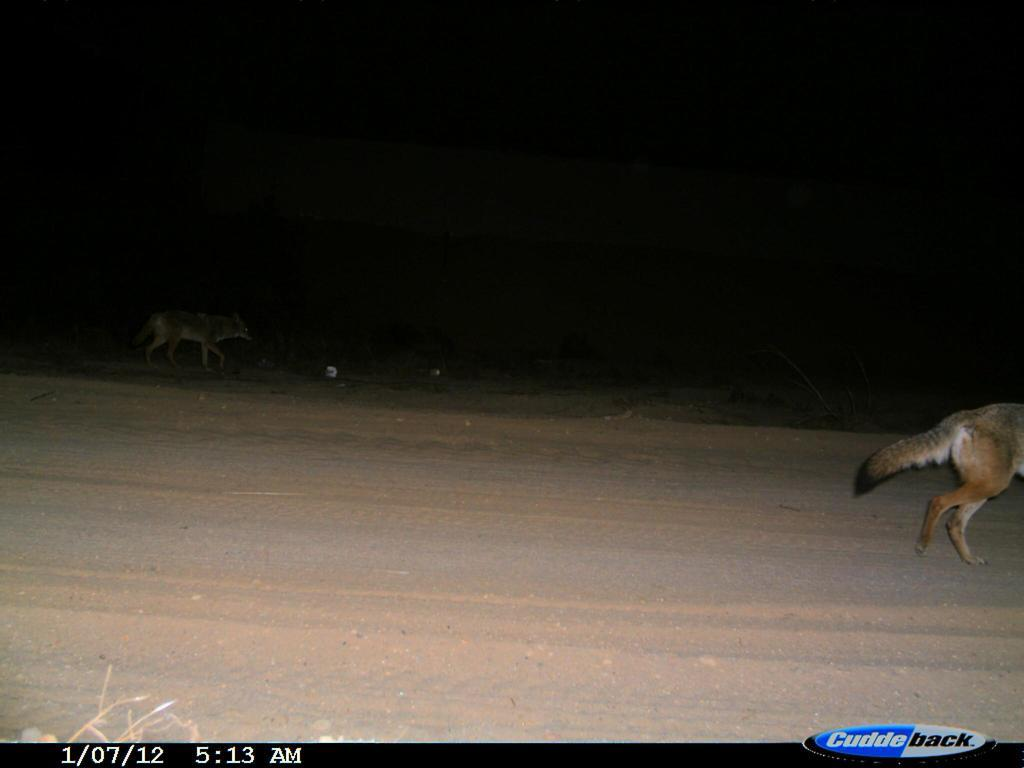coyote: (850, 387, 1021, 562)
